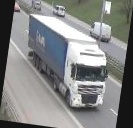car: (52, 5, 66, 17), (32, 0, 43, 10), (14, 2, 21, 13)
